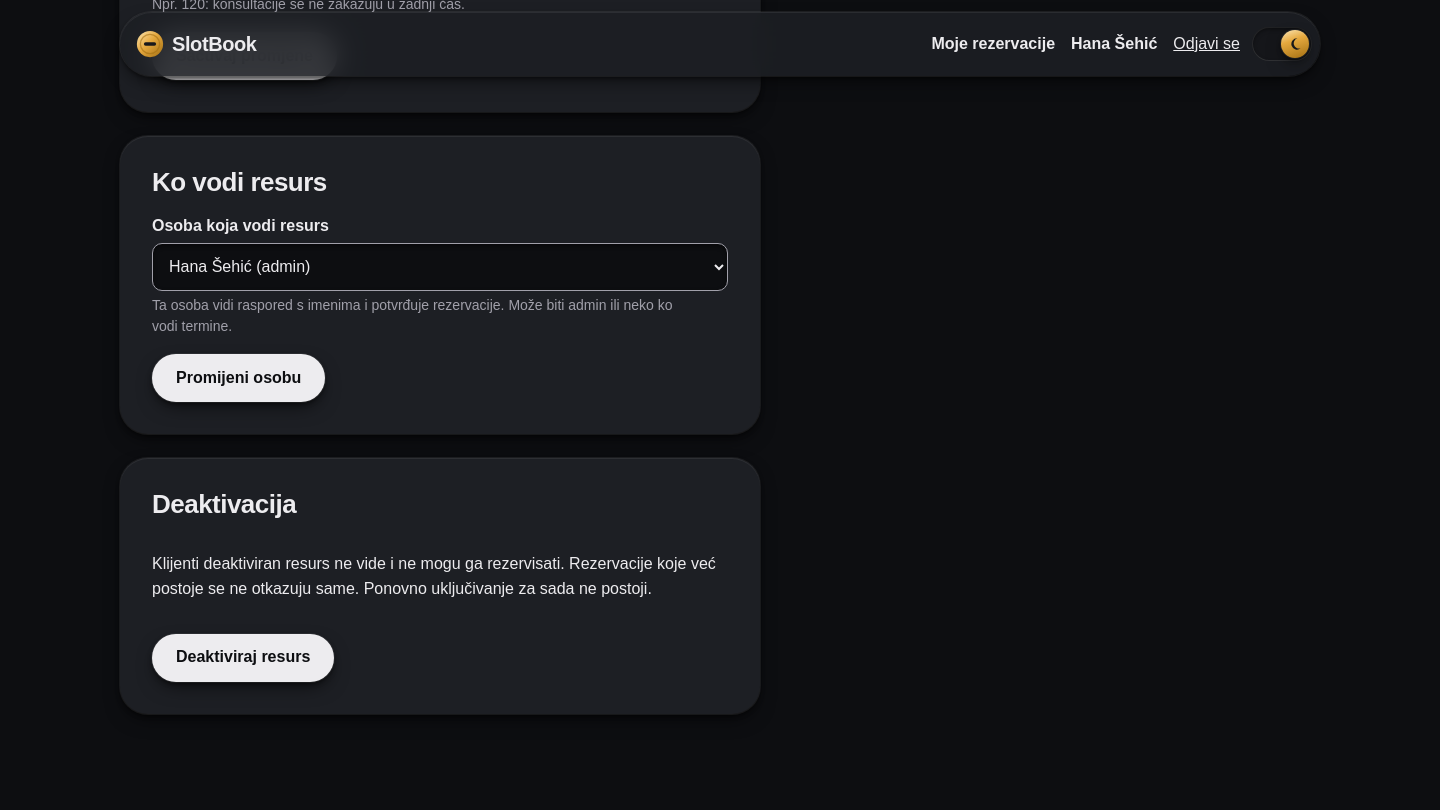
deaktivacija › odustajanje ne šalje ništa i vraća dugme
(page scrolled)
Click the button "Deaktiviraj resurs". click: (243,658)
box: [152,634,334,682]
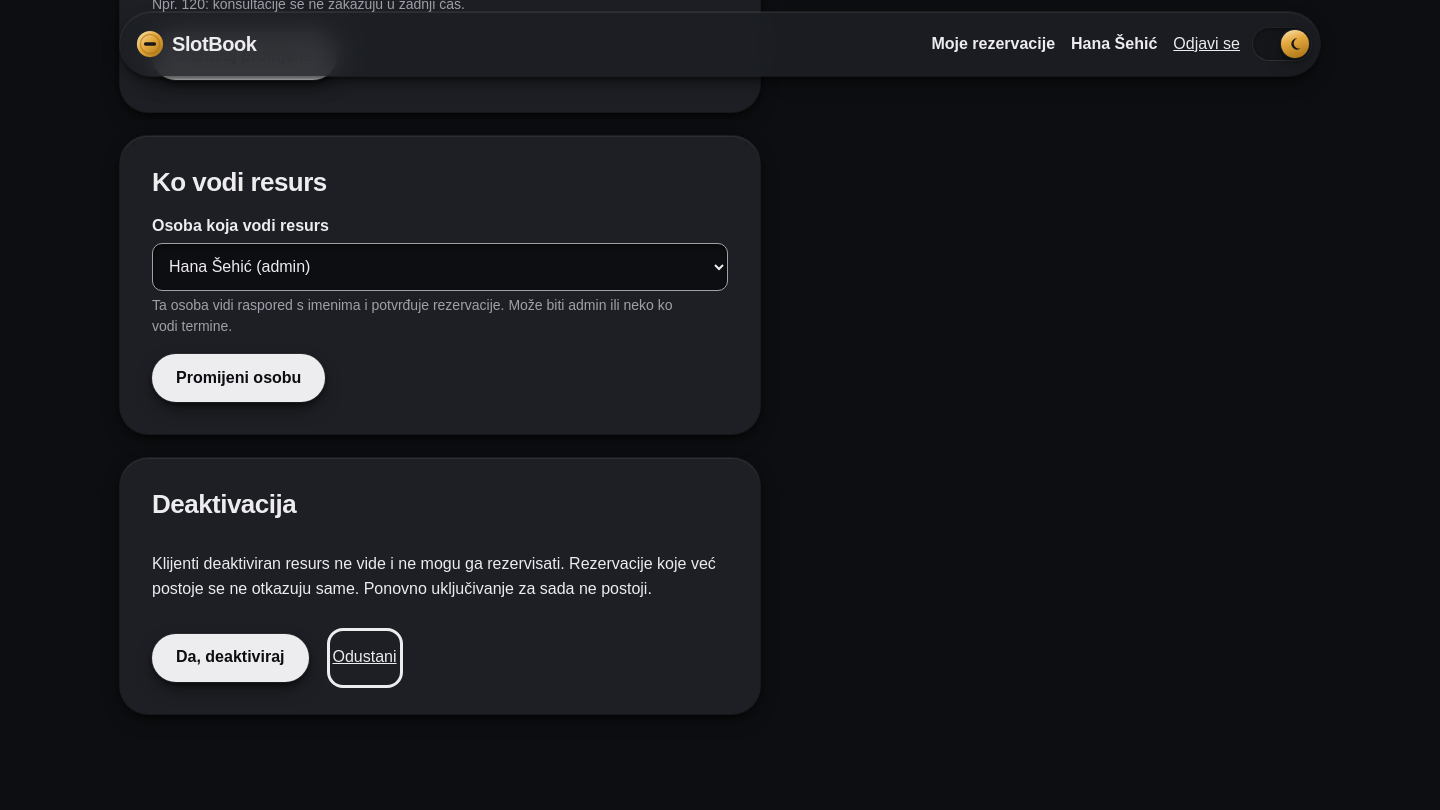
Click the button "Odustani". click: (364,658)
box: [332,634,396,682]
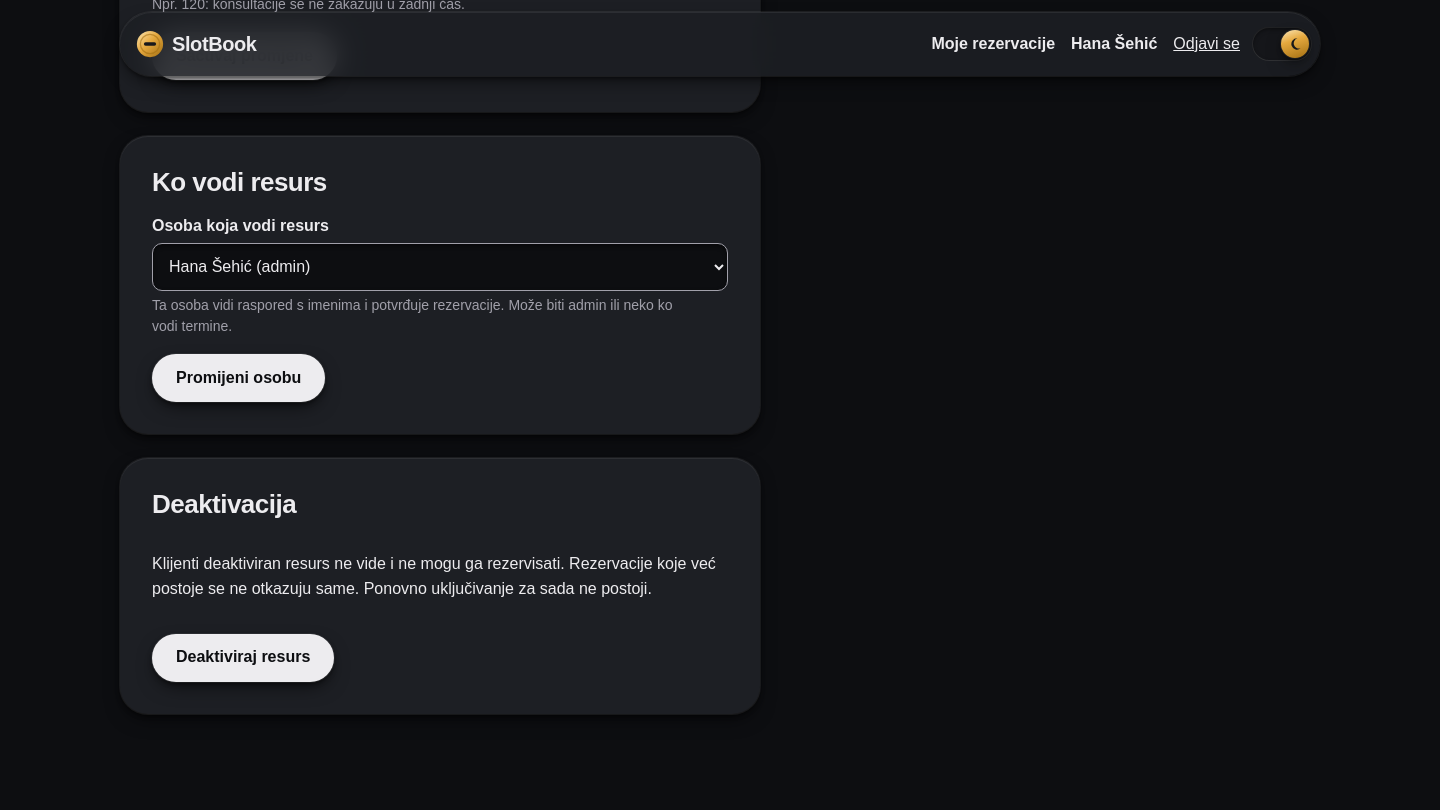
Now the button "Deaktiviraj resurs" is shown, box [152,634,334,682]
